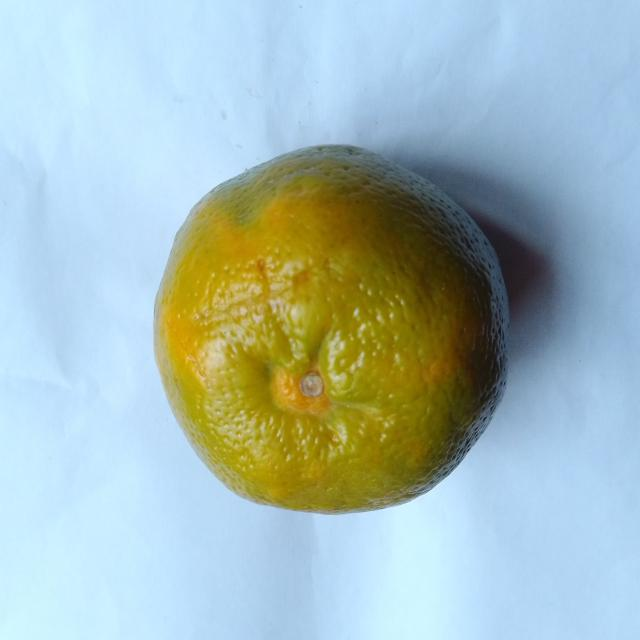orange: (155, 146, 508, 512)
